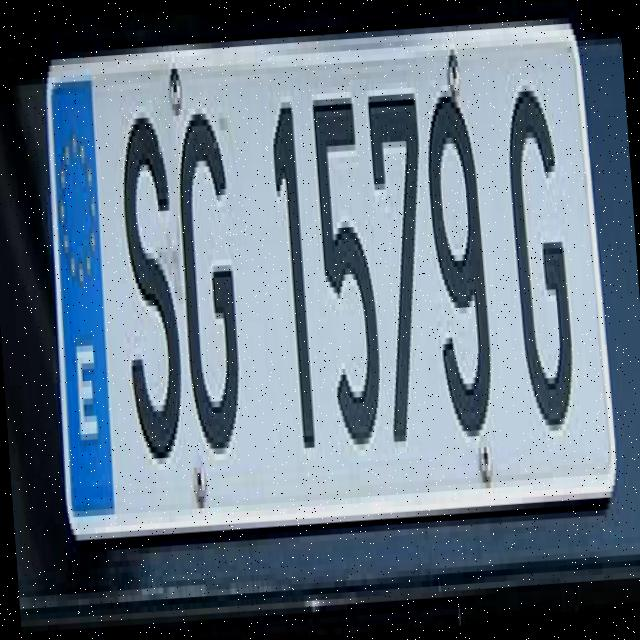EU: (38, 15, 616, 532)
Espagne: (46, 87, 118, 510)
